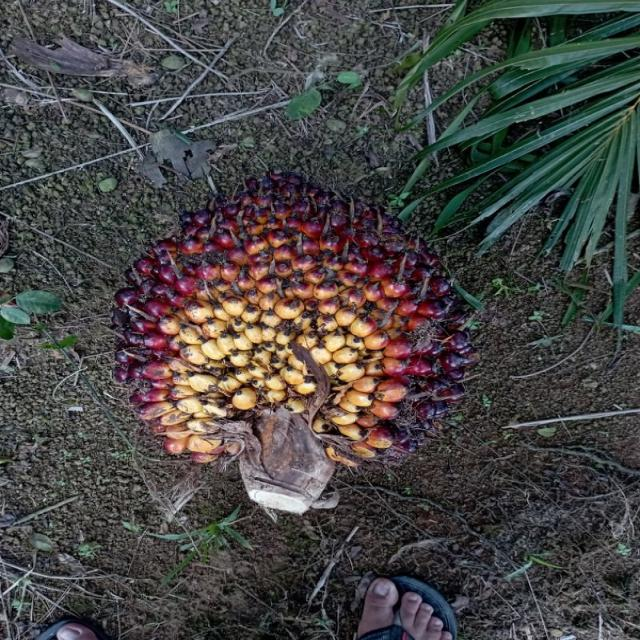fraksi 1: (114, 167, 470, 483)
